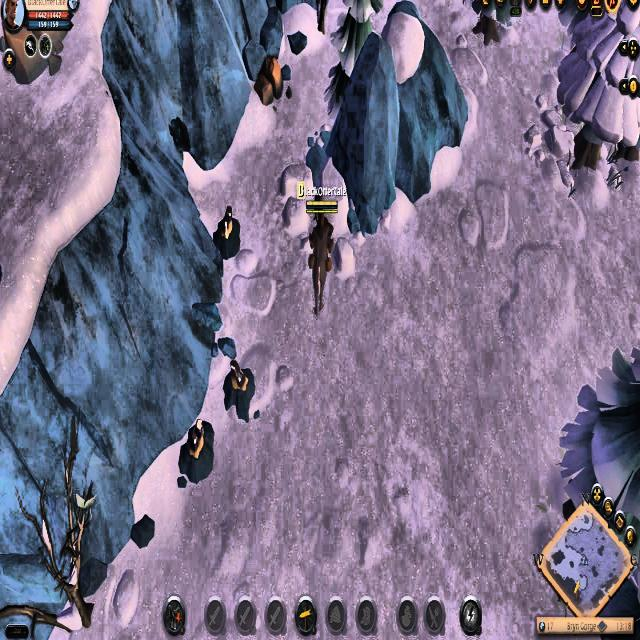copperore: (178, 417, 215, 485), (221, 357, 257, 424), (212, 207, 242, 256)
limestone: (5, 30, 65, 87), (251, 51, 287, 107)
